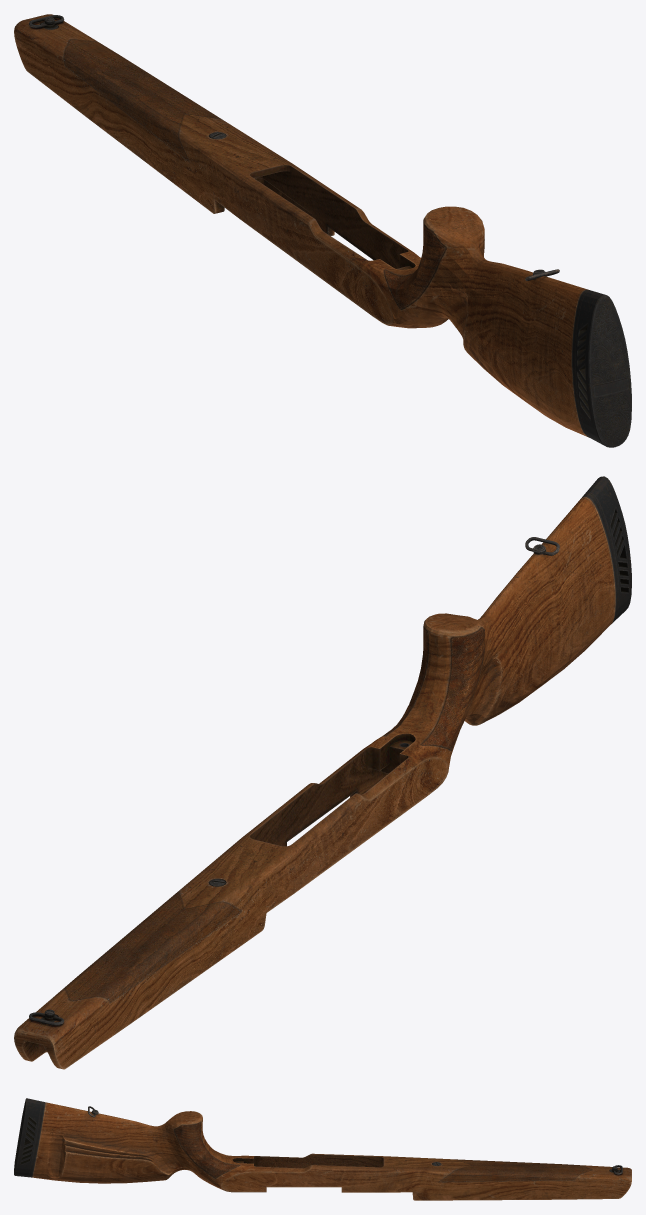
The picture shows the model from 3 angles, top to bottom: view 1: azimuth 30°, elevation 25°; view 2: azimuth 150°, elevation 25°; view 3: azimuth 270°, elevation 25°; orthographic projection. The views are drawn at different scales.
Parts seen in each view (by area): view 1: TW_5c503af12e221602b177ca02_PZ_Import; view 2: TW_5c503af12e221602b177ca02_PZ_Import; view 3: TW_5c503af12e221602b177ca02_PZ_Import.
Part boxes in pixels (x1=…): TW_5c503af12e221602b177ca02_PZ_Import: x1=14, y1=14, x2=631, y2=447; TW_5c503af12e221602b177ca02_PZ_Import: x1=14, y1=476, x2=631, y2=1069; TW_5c503af12e221602b177ca02_PZ_Import: x1=14, y1=1098, x2=631, y2=1200.
Bounding box in the file's own units: 0.0285 × 0.5179 × 0.0887.
Materials: 1 (1 with a texture image).
